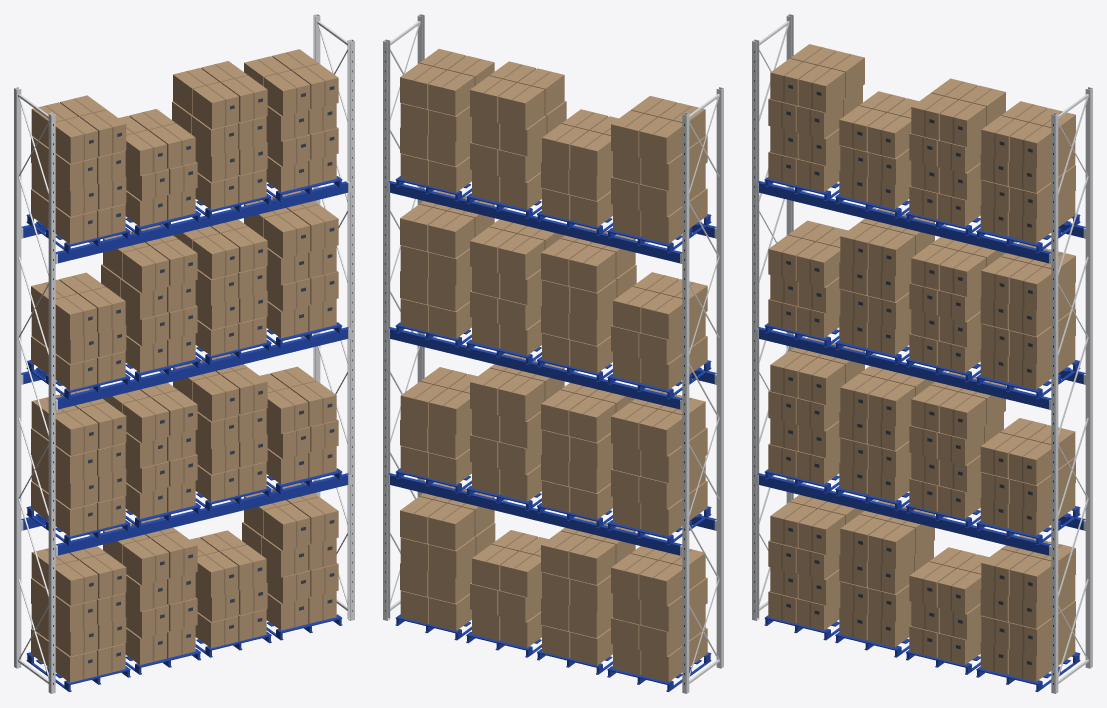
File: SM_MPR_Rack_42D_192.fbx
3 renders of one model, left to right at view 1: azimuth 30°, elevation 25°; view 2: azimuth 150°, elevation 25°; view 3: azimuth 330°, elevation 25°, orthographic.
Visible parts, largest first — view 1: SM_MPR_Rack_42D_192; view 2: SM_MPR_Rack_42D_192; view 3: SM_MPR_Rack_42D_192.
Boxes of the visible parts, x1=… form: SM_MPR_Rack_42D_192: x1=14, y1=14, x2=354, y2=693; SM_MPR_Rack_42D_192: x1=383, y1=14, x2=723, y2=693; SM_MPR_Rack_42D_192: x1=752, y1=14, x2=1092, y2=693.
Size of the model in its own units: 503 by 122 by 915.
